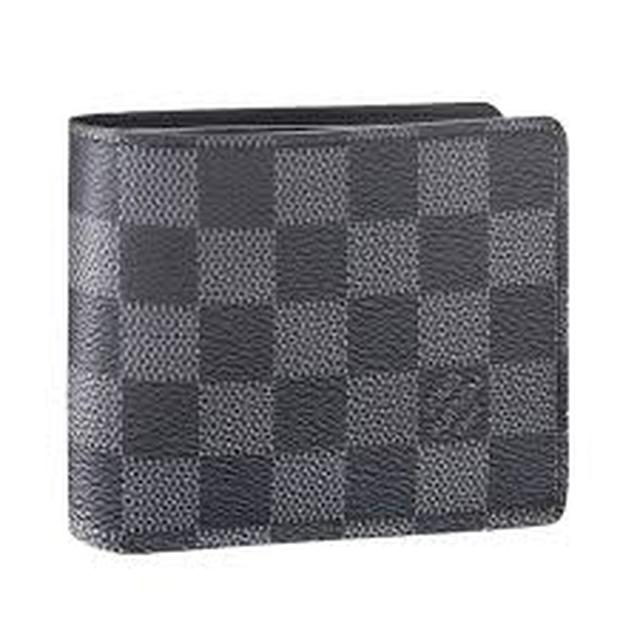wallet: (57, 98, 605, 570)
